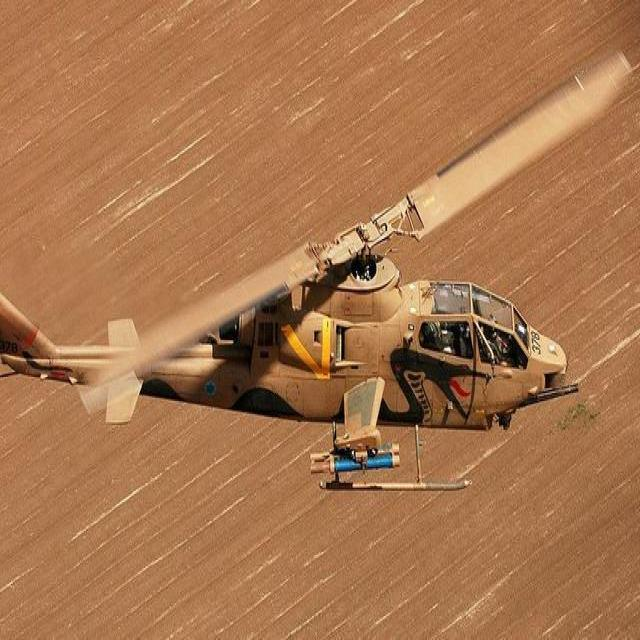MIL_HELO: (0, 39, 635, 528)
